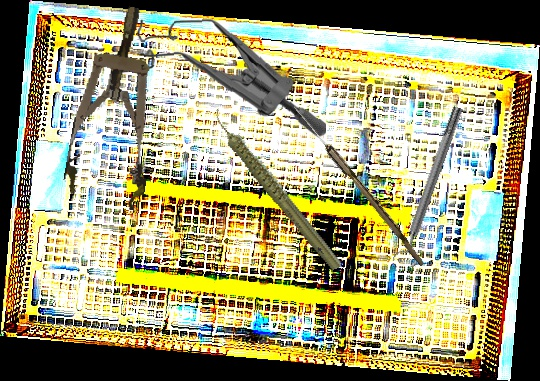Fixation Ring: (390, 103, 472, 269)
Handpiece: (210, 88, 345, 289)
Speculum: (108, 8, 327, 148), (60, 0, 176, 212)
Surgical Spoon: (289, 103, 429, 267)
